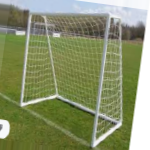goals: (20, 9, 124, 147)
